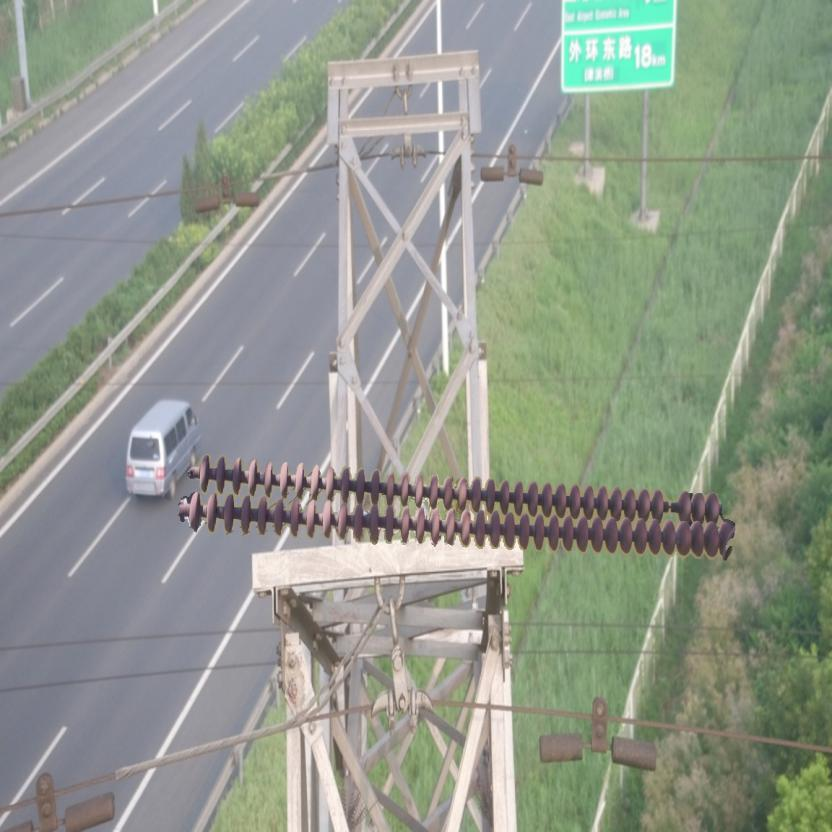defect: (648, 486, 694, 519)
